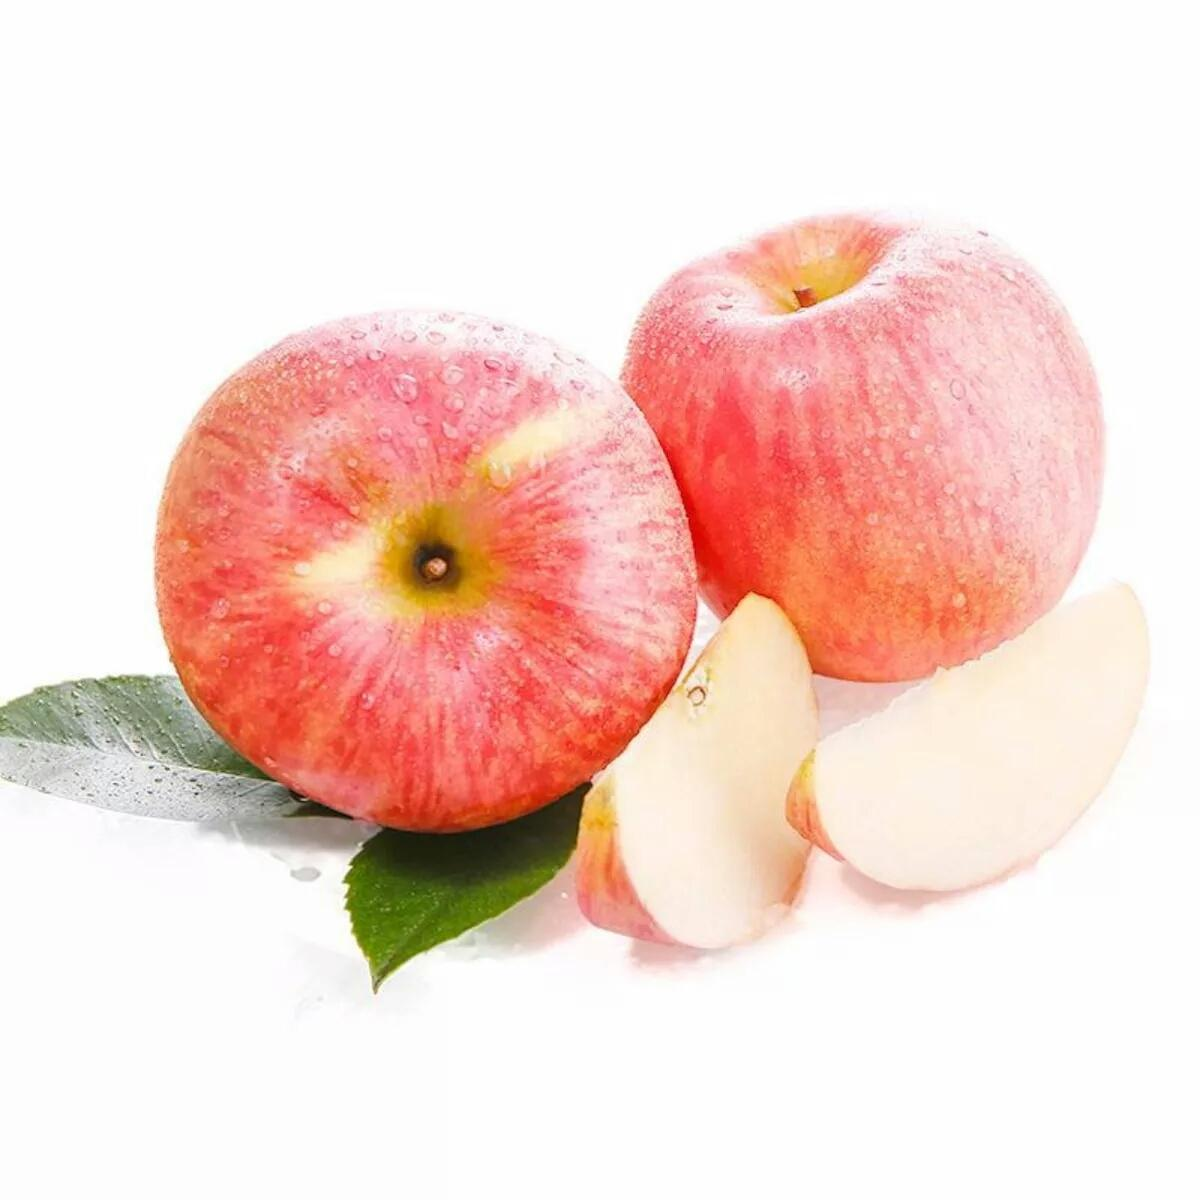apple: (143, 316, 705, 841), (625, 209, 1097, 671)
